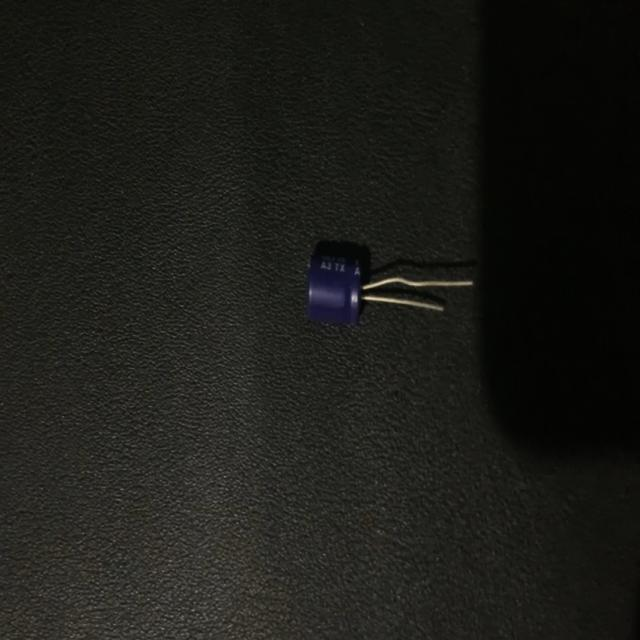capacitor: (305, 245, 475, 328)
